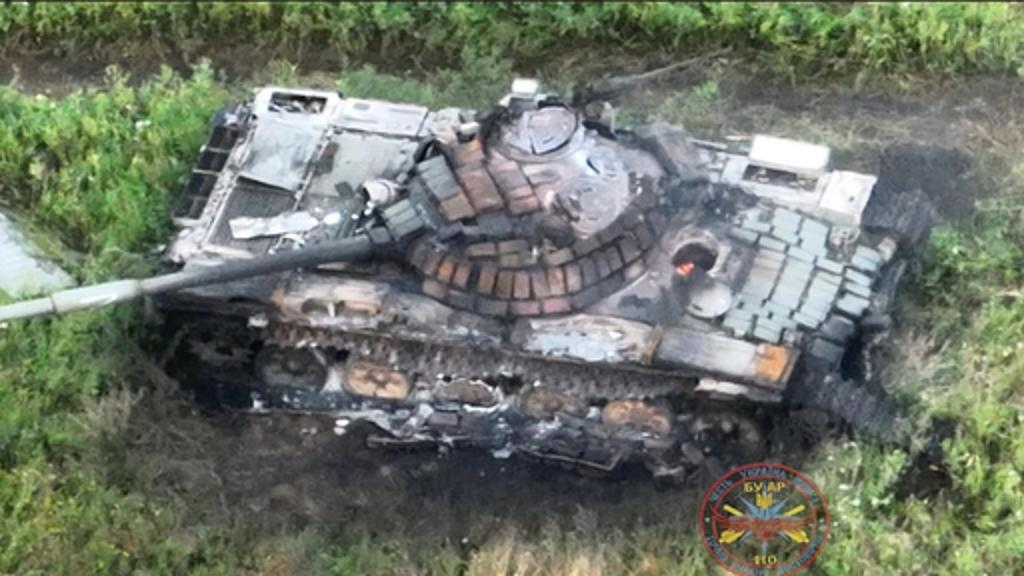TANK: (0, 60, 928, 488)
